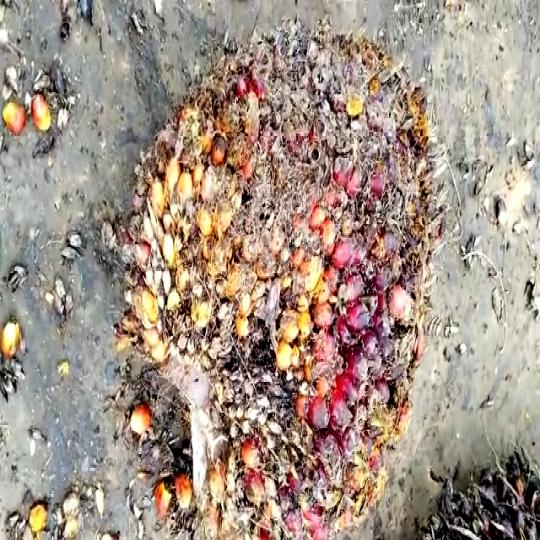masak: (126, 17, 428, 540)
